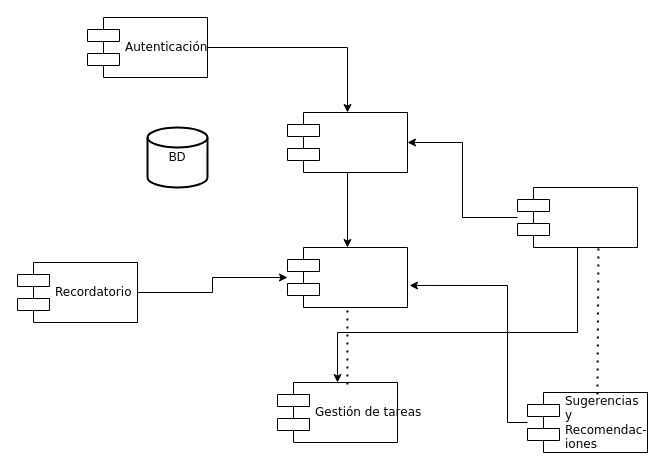
Image size: 665x470. Some labels were removed from this diagram. Each missing label, with the box of its shape:
Base de Datos: (286, 246, 408, 308)
Estadísticas y Metas: (516, 186, 638, 248)
Gestión de Hábitos: (286, 112, 408, 172)
